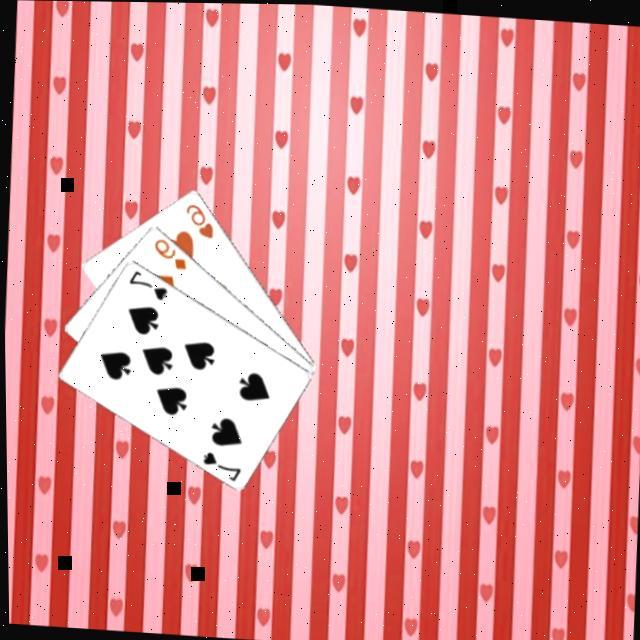6H: (182, 197, 218, 239)
7S: (126, 264, 172, 302), (198, 444, 244, 482)
9D: (150, 232, 191, 270)
